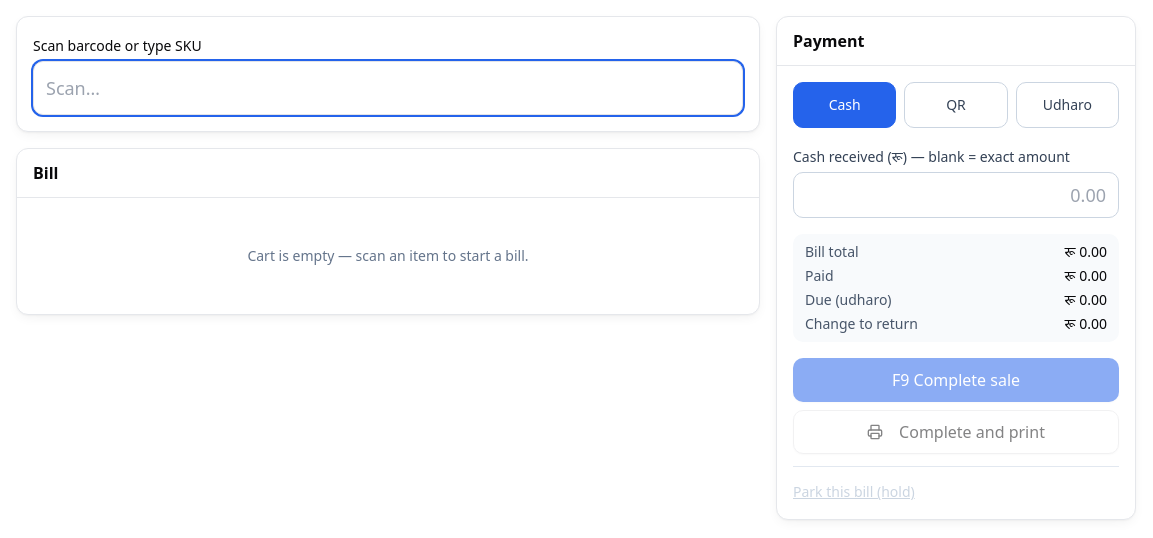
Test: BillingPage counter payment › bills the price of the selected rate, not the MRP
Type "8901234567890" into the field labelled "Scan barcode or type SKU" at (388, 88), box [33,61,743,115]
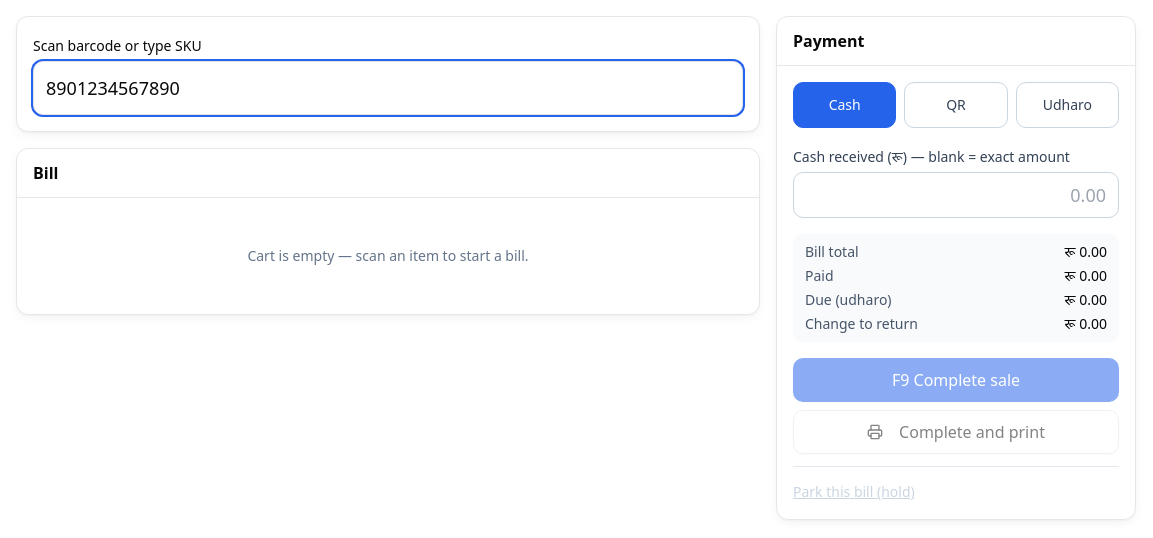
Submit the form labelled "Scan barcode or type SKU", box [33,33,743,115]
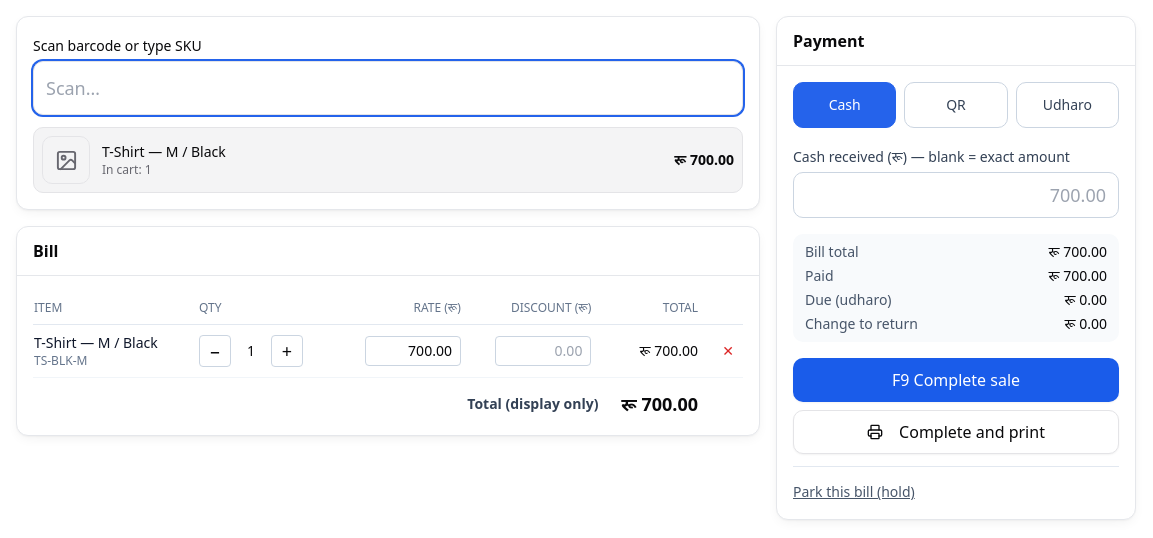
Click the button "F9 Complete sale" at (956, 380), box [793,358,1119,402]
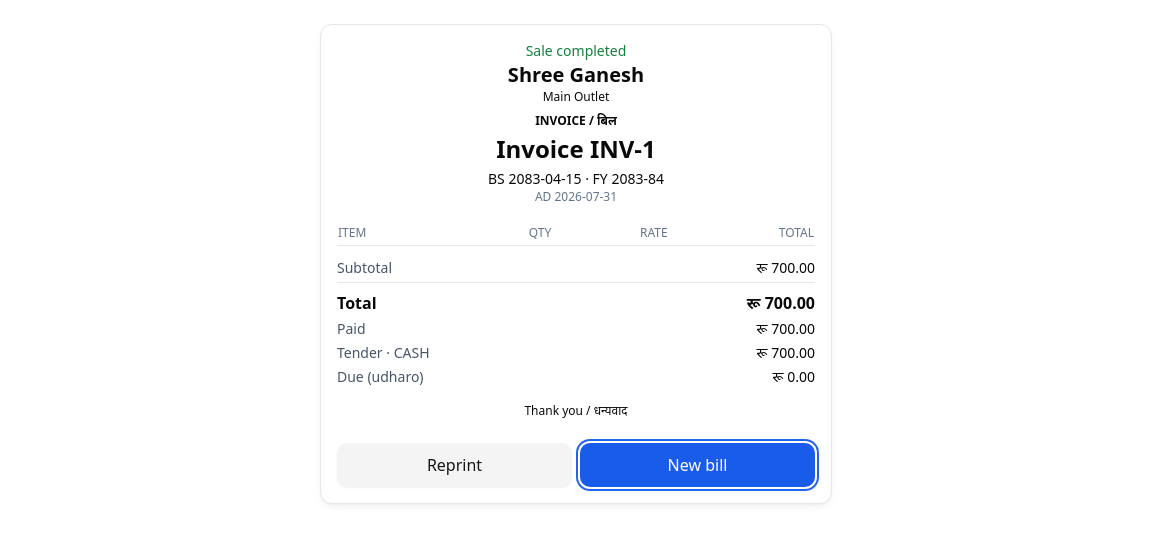
Now the heading "Invoice INV-1" is shown, box [496,132,656,165]
